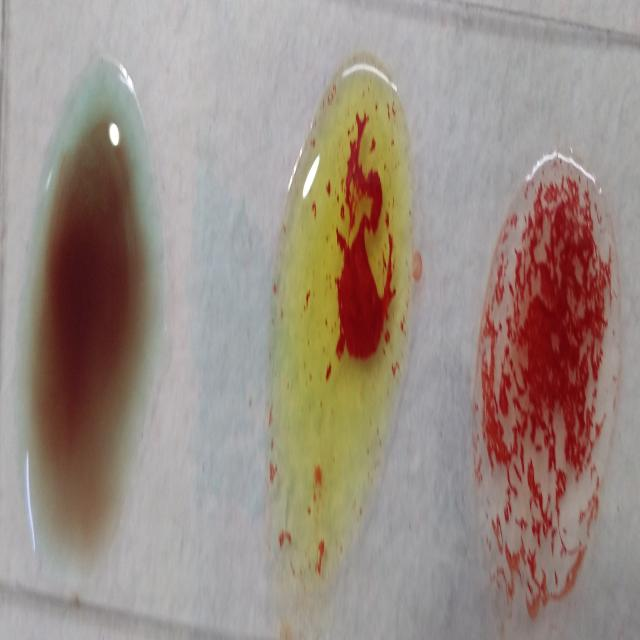B: (272, 55, 411, 604)
D: (478, 149, 619, 626)
